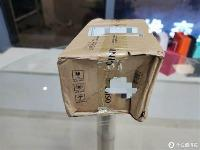damaged package: (135, 108, 144, 120)
undamaged: (55, 16, 167, 123)
